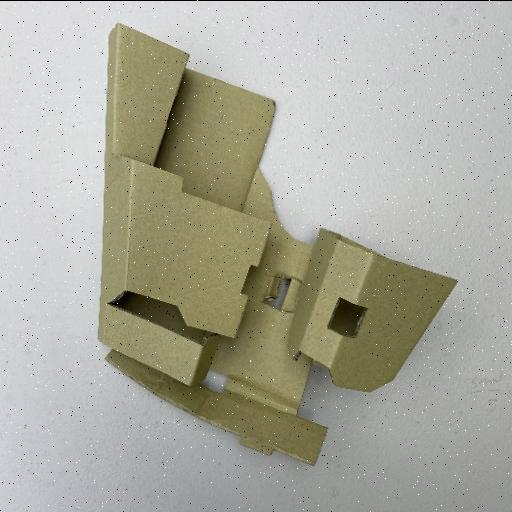Cardboard: (94, 21, 458, 467)
